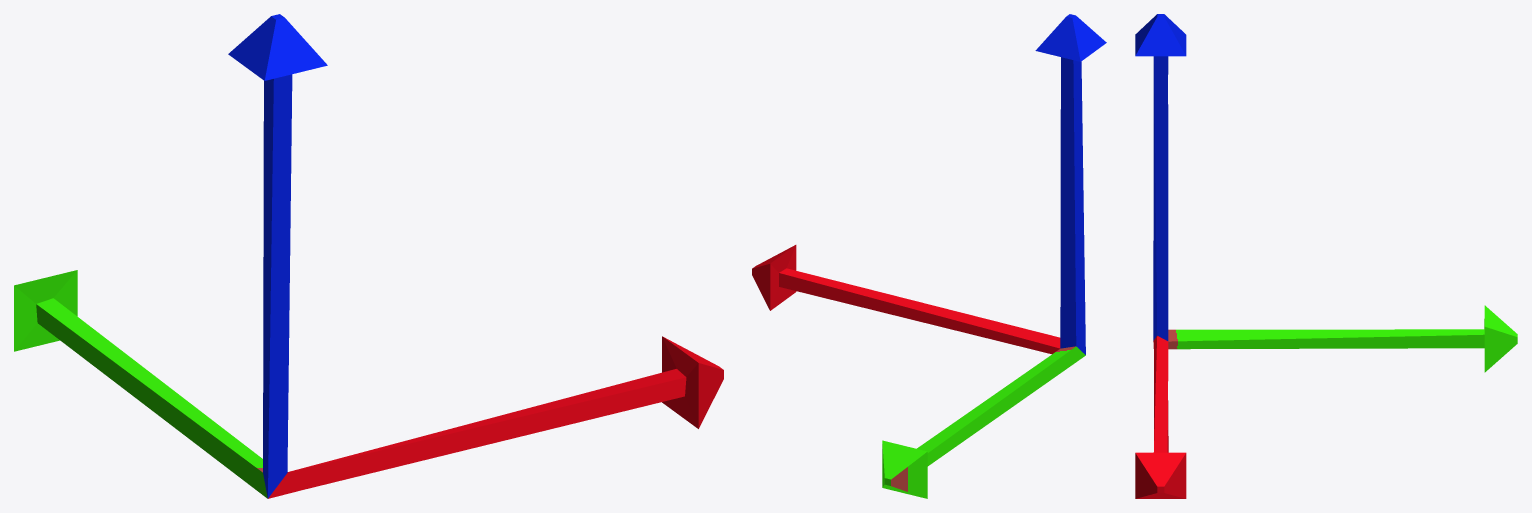
Rendered from model_move_gizmo.fbx.
3 renders of one model, left to right at view 1: azimuth 30°, elevation 25°; view 2: azimuth 150°, elevation 25°; view 3: azimuth 270°, elevation 25°, orthographic. The views are drawn at different scales.
Parts seen in each view (by area): view 1: Plane; view 2: Plane; view 3: Plane.
Boxes of the visible parts, x1=… form: Plane: x1=14, y1=14, x2=723, y2=498; Plane: x1=752, y1=14, x2=1106, y2=498; Plane: x1=1135, y1=14, x2=1517, y2=498.
Bounding box in the file's own units: 1198 × 1198 × 1198.
Materials: 1 (1 with a texture image).
